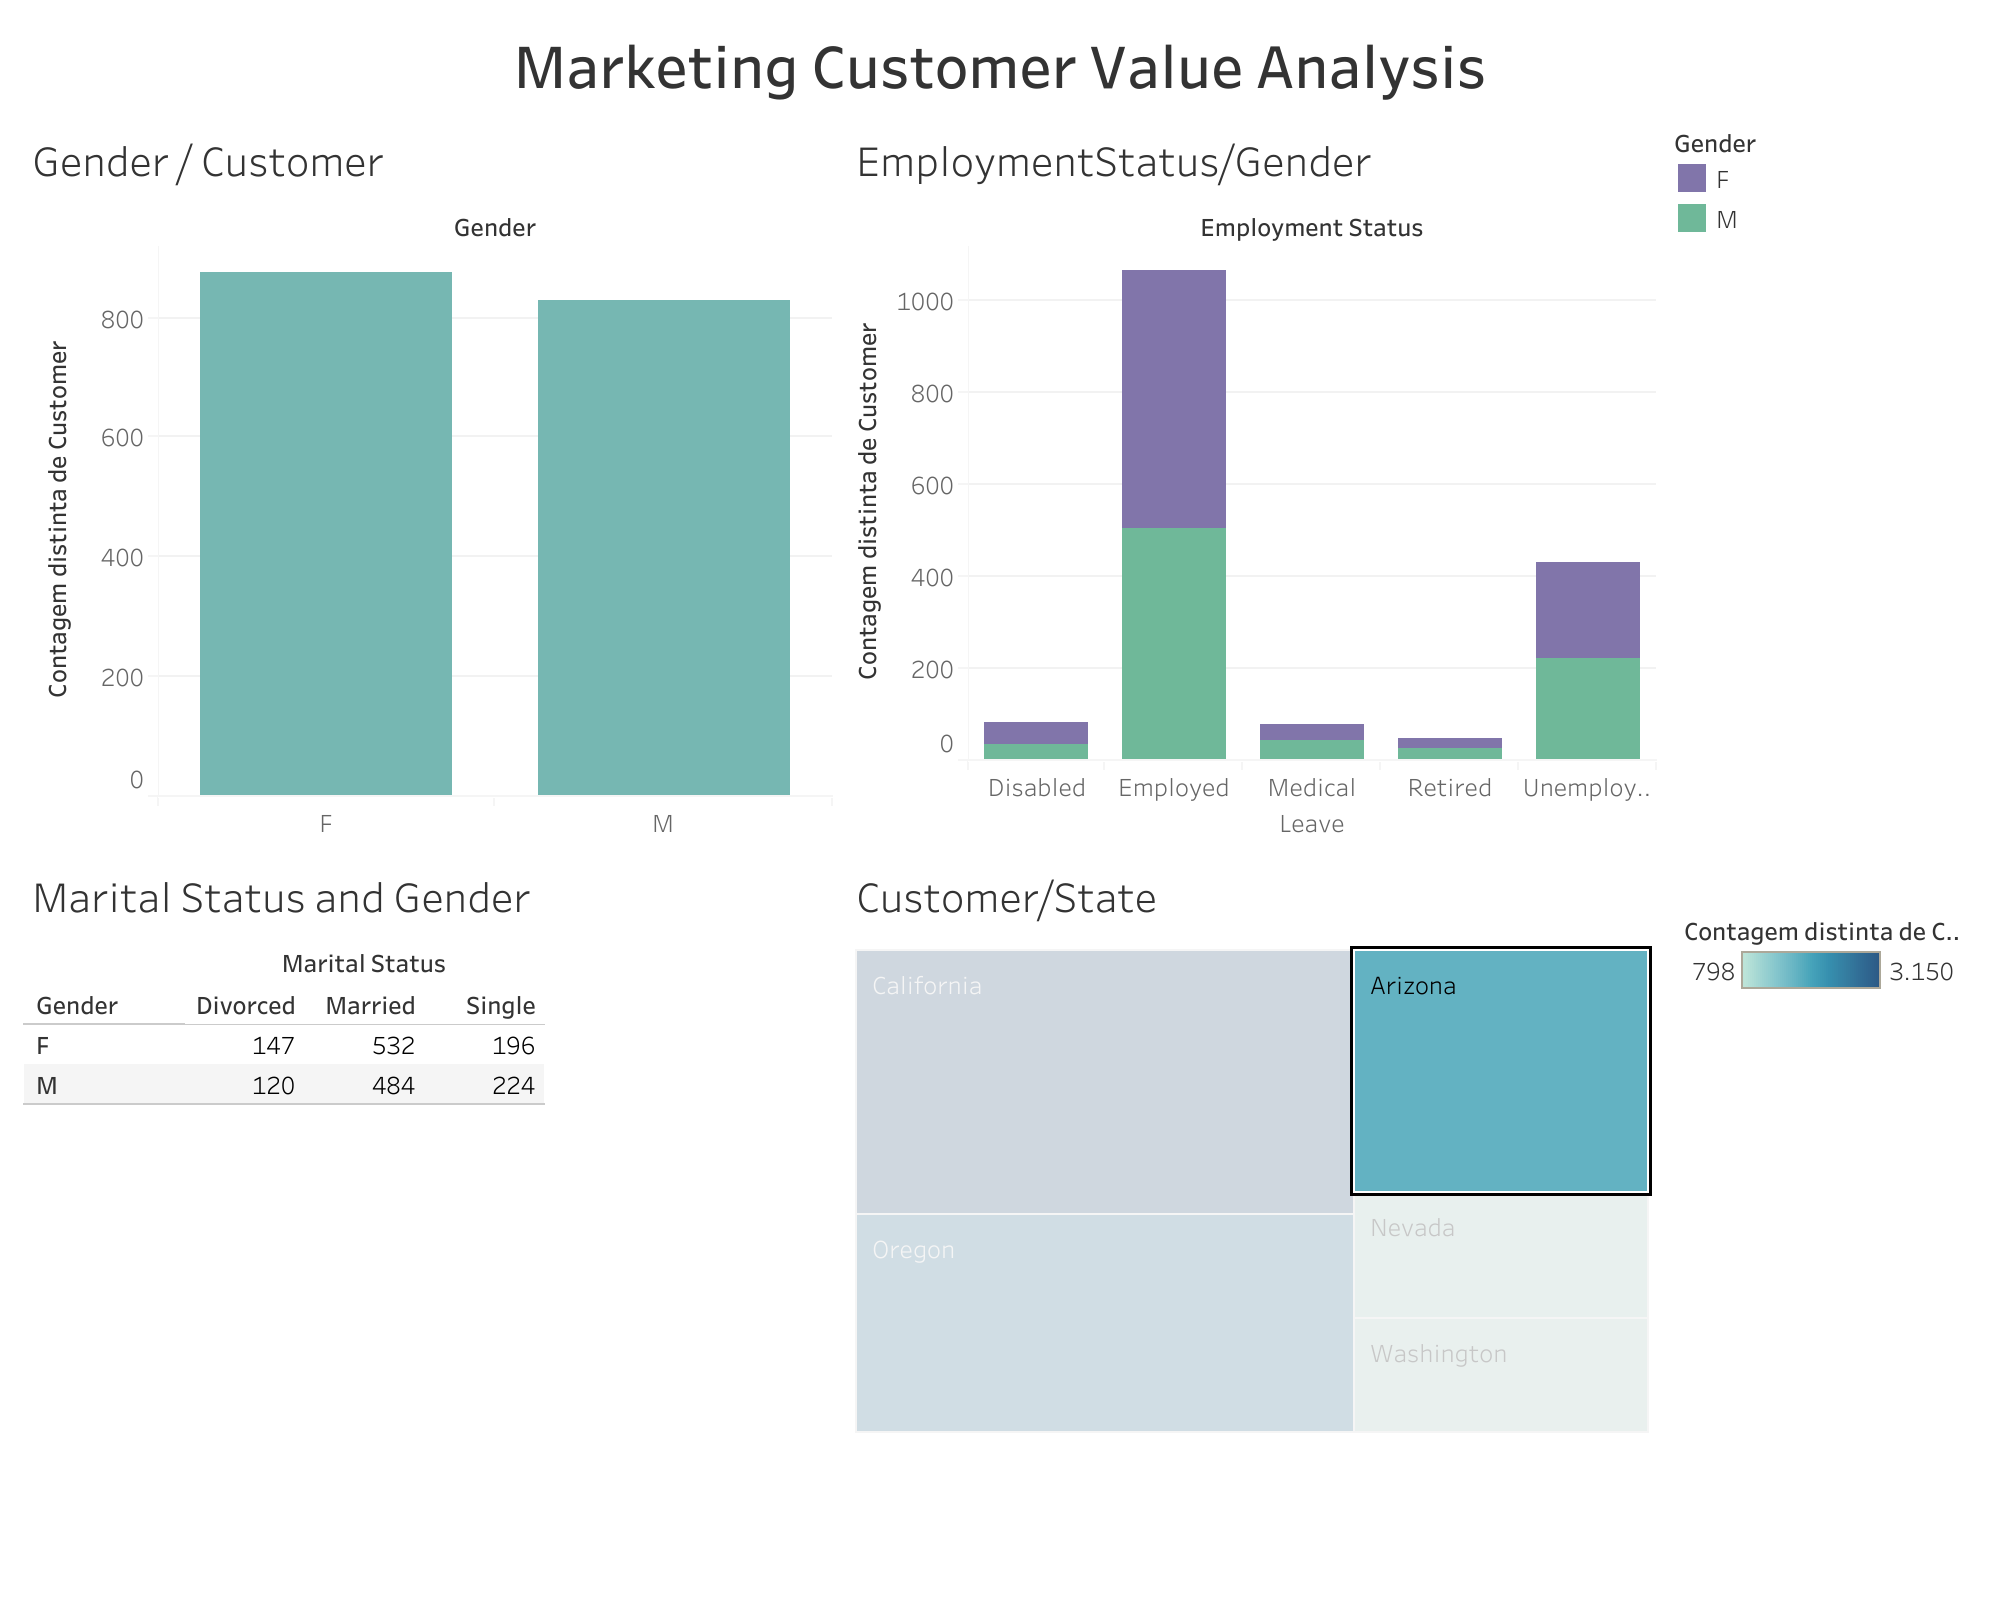

This screenshot's page, from the dashboard's own definition file:
{"tool":"tableau","page":{"name":"Marketing Customer Value Analysis","canvas":[1000,800],"ordinal":0},"visuals":[{"type":"title","box":[8,8,984,48]},{"type":"worksheet","title":"Gender / Customer","mark":"Automatic","rows":["Customer"],"cols":["Gender"],"box":[8,56,412,368]},{"type":"worksheet","title":"EmploymentStatus/Gender","mark":"Automatic","rows":["Customer"],"cols":["EmploymentStatus"],"box":[420,56,412,368]},{"type":"legend","title":"EmploymentStatus/Gender","param":"[federated.1h2lp3s1amti4y1952tor18kfazh].[none:Gender:nk]","box":[832,56,160,66]},{"type":"worksheet","title":"Marital Status and Gender","mark":"Automatic","rows":["Gender"],"cols":["Marital Status"],"box":[8,424,412,368]},{"type":"worksheet","title":"Customer/State","mark":"Automatic","box":[420,424,412,368]},{"type":"legend","title":"Customer/State","param":"[federated.1h2lp3s1amti4y1952tor18kfazh].[ctd:Customer:qk]","box":[842,452,140,59]}]}

Visuals, with their boxes in screenshot pixels (x1, y1, x2, y2), scaled from the page's 1000x800 canvas onto the 1998x1598 screenshot:
title: x1=16, y1=16, x2=1982, y2=112
"Gender / Customer" worksheet: x1=16, y1=112, x2=839, y2=847
"EmploymentStatus/Gender" worksheet: x1=839, y1=112, x2=1662, y2=847
"EmploymentStatus/Gender" legend: x1=1662, y1=112, x2=1982, y2=244
"Marital Status and Gender" worksheet: x1=16, y1=847, x2=839, y2=1582
"Customer/State" worksheet: x1=839, y1=847, x2=1662, y2=1582
"Customer/State" legend: x1=1682, y1=903, x2=1962, y2=1021
